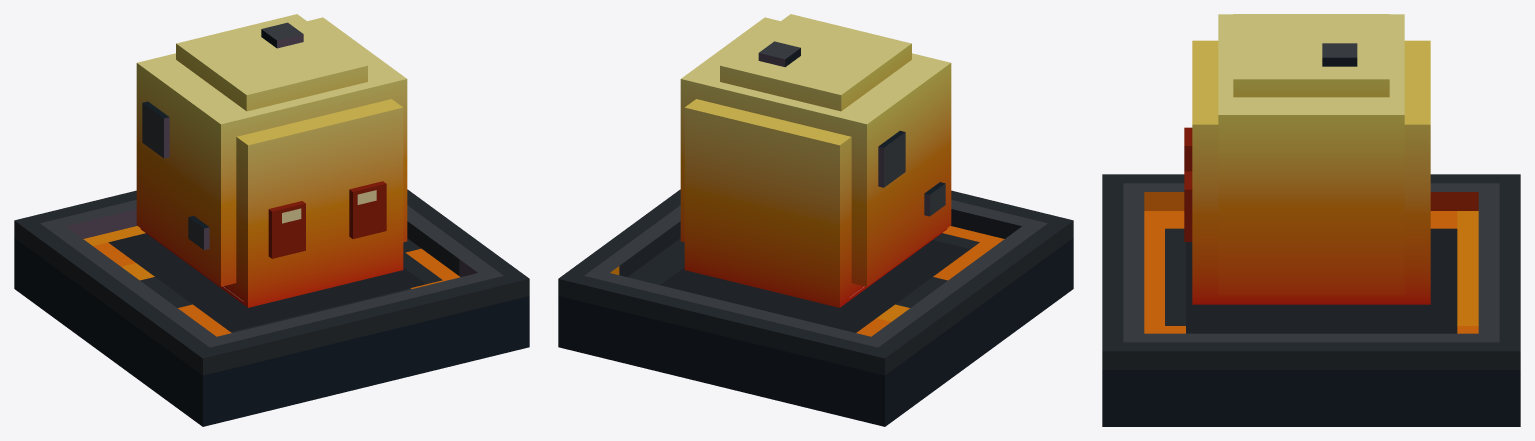
Rendered from Tower_Flame_LVL3.fbx.
3 views of the same model, side by side, from view 1: azimuth 30°, elevation 25°; view 2: azimuth 150°, elevation 25°; view 3: azimuth 270°, elevation 25° (orthographic). The views are drawn at different scales.
Parts seen in each view (by area): view 1: Base, Body, Hair, HairTop, HairTop6, HairTop8, HairTop7; view 2: Base, Body, Hair, HairTop, HairTop6, HairTop8, HairTop7; view 3: Base, Hair, Body, HairTop, HairTop8.
Boxes of the visible parts, x1=… form: Base: x1=14, y1=189, x2=529, y2=426; Body: x1=140, y1=99, x2=403, y2=307; Hair: x1=136, y1=17, x2=407, y2=286; HairTop: x1=176, y1=14, x2=367, y2=111; HairTop6: x1=142, y1=101, x2=169, y2=158; HairTop8: x1=261, y1=22, x2=303, y2=48; HairTop7: x1=188, y1=216, x2=209, y2=250; Base: x1=558, y1=189, x2=1073, y2=426; Body: x1=684, y1=99, x2=947, y2=307; Hair: x1=680, y1=17, x2=951, y2=286; HairTop: x1=720, y1=14, x2=911, y2=111; HairTop6: x1=878, y1=130, x2=905, y2=187; HairTop8: x1=758, y1=41, x2=800, y2=67; HairTop7: x1=924, y1=182, x2=945, y2=216; Base: x1=1102, y1=174, x2=1520, y2=426; Hair: x1=1218, y1=14, x2=1404, y2=295; Body: x1=1184, y1=40, x2=1430, y2=304; HairTop: x1=1233, y1=14, x2=1389, y2=97; HairTop8: x1=1322, y1=43, x2=1357, y2=66.
Size of the model in its own units: 100 by 79.33 by 100.
